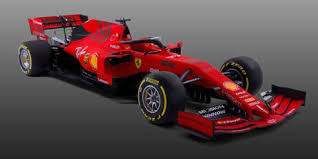FormulaOneCar: (17, 11, 309, 143)
